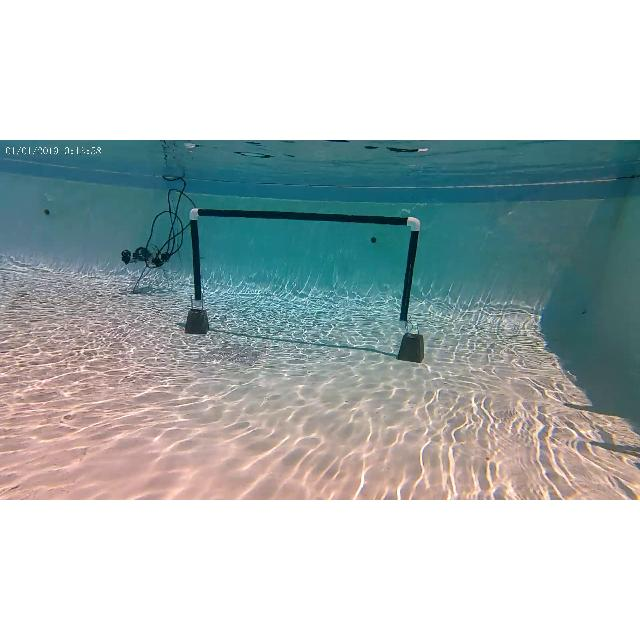prequal gate: (190, 208, 420, 326)
prequal gate leg l: (186, 207, 212, 335)
prequal gate leg r: (401, 216, 422, 362)
